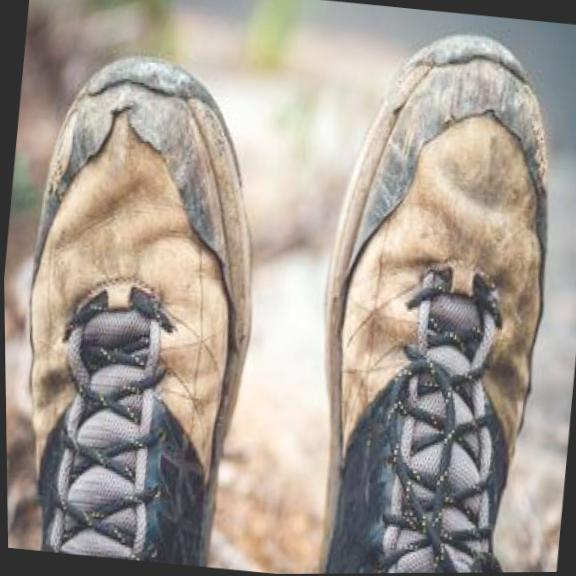safety_vest: (288, 19, 576, 574), (1, 43, 281, 570)
